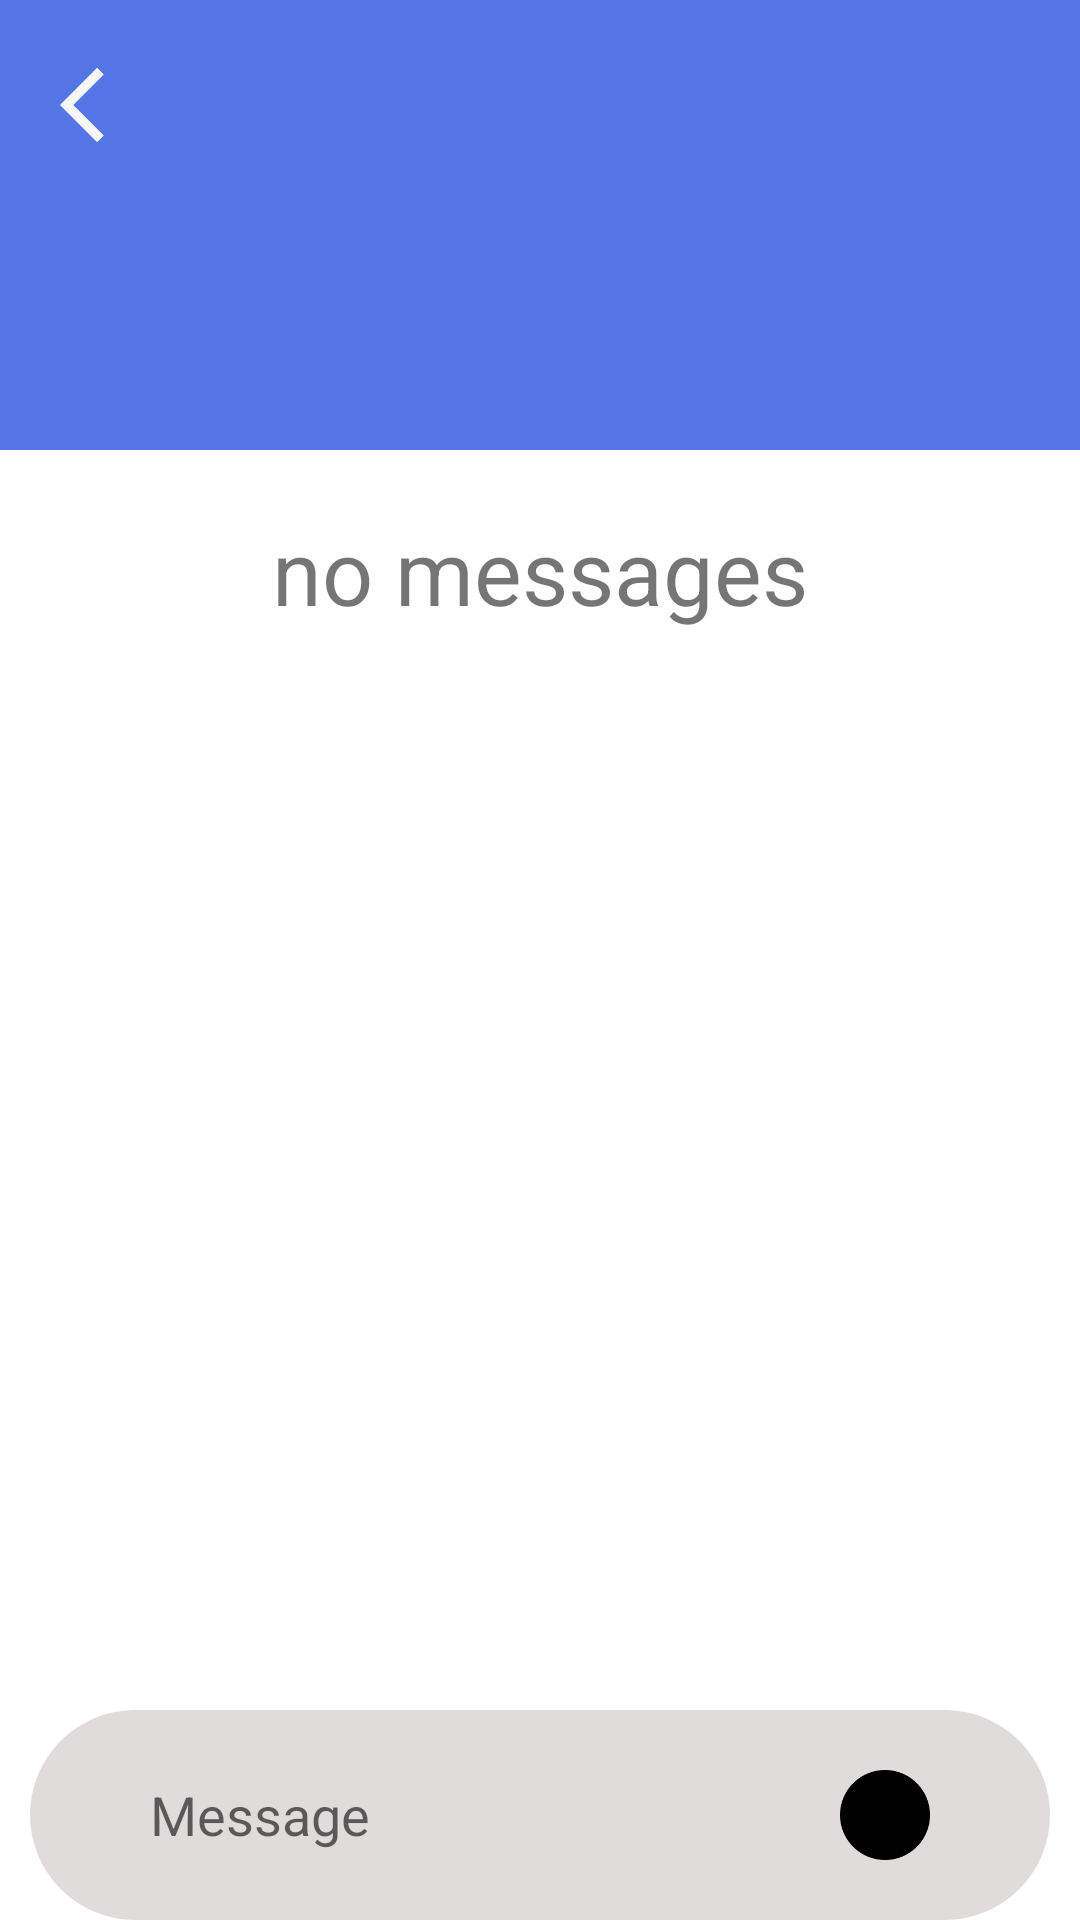

Icon bounding boxes for this 1080px×1920px phone screenshot, format (x1, y1, x2, y2):
chat page back: (60, 68, 104, 142)
